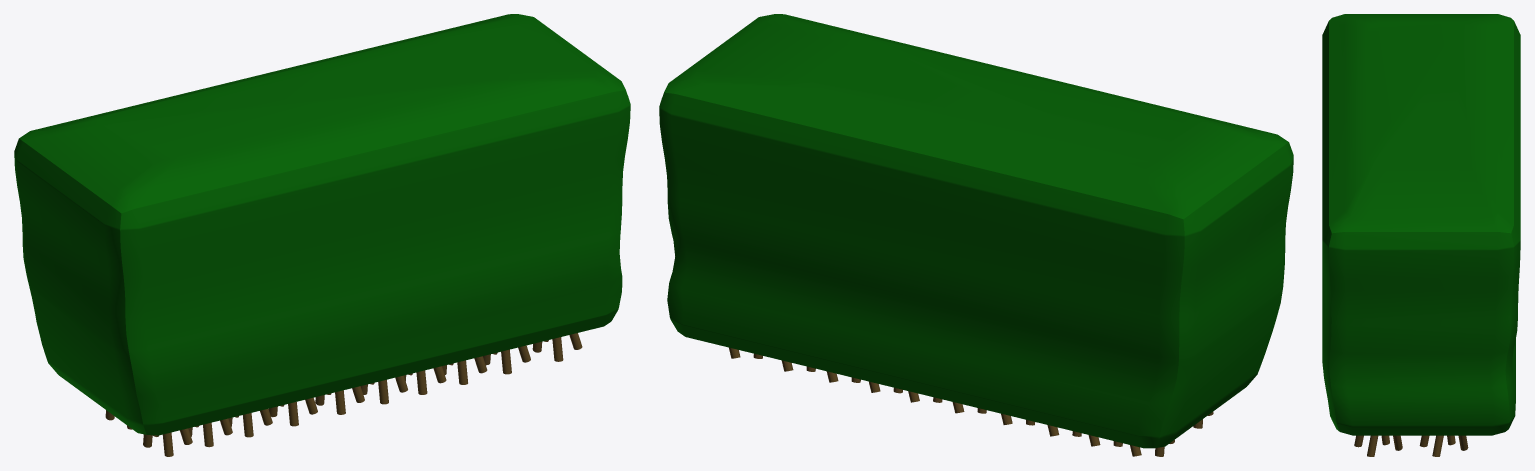
Rendered from Bush.fbx.
The picture shows the model from 3 angles, left to right: view 1: azimuth 30°, elevation 25°; view 2: azimuth 150°, elevation 25°; view 3: azimuth 270°, elevation 25°; orthographic projection. The views are drawn at different scales.
Parts seen in each view (by area): view 1: pCube1; view 2: pCube1; view 3: pCube1.
Part boxes in pixels (x1=…): pCube1: x1=14, y1=14, x2=630, y2=435; pCube1: x1=659, y1=14, x2=1293, y2=448; pCube1: x1=1322, y1=14, x2=1520, y2=435.
Bounding box in the file's own units: 2.2 × 1.17 × 0.8262.
